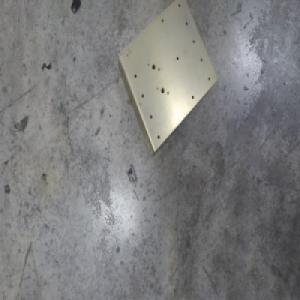MetalSheet: (116, 0, 217, 159)
